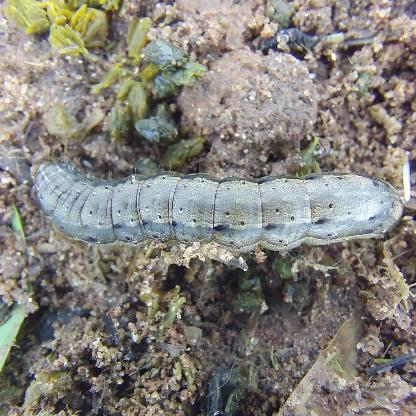Fall Armyworm Larvae: (18, 150, 414, 258)
